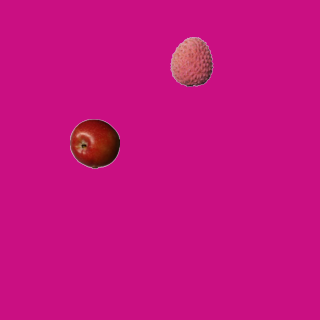Apple Braeburn: (69, 118, 119, 168)
Lychee: (166, 36, 216, 86)
